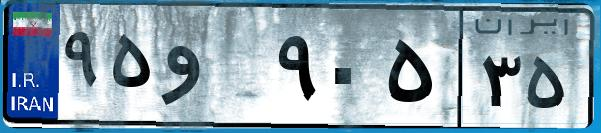0: (330, 28, 385, 110)
3: (475, 38, 525, 113)
5: (385, 28, 445, 110), (525, 38, 570, 115), (110, 28, 158, 98)
9: (270, 28, 330, 110), (57, 26, 110, 100)
و: (158, 20, 270, 120)
